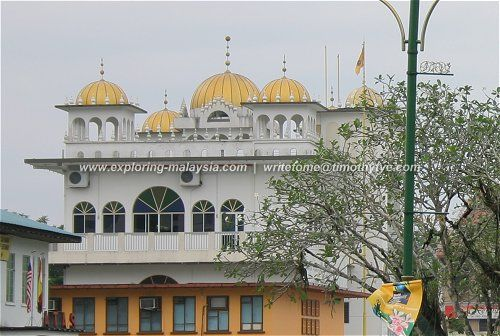Gurdwara: (45, 40, 400, 331)
